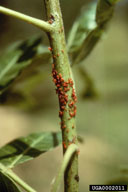Thrips: (46, 43, 80, 152)
